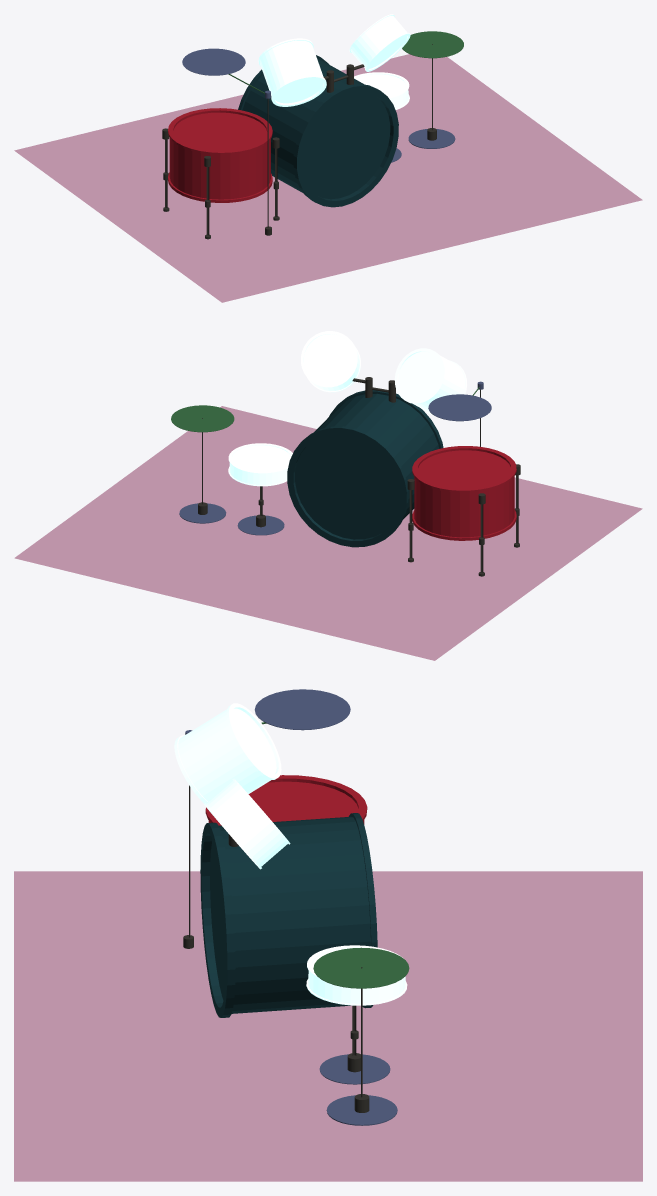
The model's file is drums.fbx.
3 renders of one model, top to bottom at view 1: azimuth 30°, elevation 25°; view 2: azimuth 150°, elevation 25°; view 3: azimuth 270°, elevation 25°, orthographic. The views are drawn at different scales.
Visible parts, largest first — view 1: Grid, Cylinder, Cylinder.002, Cylinder.010, Cylinder.011, Cylinder.023, Cylinder.020, Cylinder.001, Cylinder.018; view 2: Grid, Cylinder, Cylinder.002, Cylinder.010, Cylinder.011, Cylinder.001, Cylinder.023, Cylinder.020, Cylinder.018, Cylinder.015; view 3: Grid, Cylinder, Cylinder.010, Cylinder.002, Cylinder.011, Cylinder.023, Cylinder.020, Cylinder.001, Cylinder.018, Cylinder.015.
Boxes of the visible parts, <box> form: Grid: <box>14,54,642,302</box>; Cylinder: <box>238,55,398,207</box>; Cylinder.002: <box>168,108,272,202</box>; Cylinder.010: <box>258,38,326,106</box>; Cylinder.011: <box>349,14,410,71</box>; Cylinder.023: <box>182,48,270,98</box>; Cylinder.020: <box>402,31,463,58</box>; Cylinder.001: <box>354,72,409,109</box>; Cylinder.018: <box>408,129,455,148</box>; Grid: <box>14,406,642,660</box>; Cylinder: <box>287,390,443,547</box>; Cylinder.002: <box>412,446,516,540</box>; Cylinder.010: <box>394,348,466,415</box>; Cylinder.011: <box>301,331,360,392</box>; Cylinder.001: <box>228,443,292,486</box>; Cylinder.023: <box>428,381,491,421</box>; Cylinder.020: <box>171,405,234,432</box>; Cylinder.018: <box>179,503,226,523</box>; Cylinder.015: <box>237,515,284,535</box>; Grid: <box>14,871,642,1181</box>; Cylinder: <box>200,813,377,1017</box>; Cylinder.010: <box>174,703,281,803</box>; Cylinder.002: <box>205,775,367,825</box>; Cylinder.011: <box>204,778,290,869</box>; Cylinder.023: <box>185,689,350,734</box>; Cylinder.020: <box>313,947,409,988</box>; Cylinder.001: <box>306,945,407,1005</box>; Cylinder.018: <box>326,1095,397,1125</box>; Cylinder.015: <box>319,1054,390,1084</box>.
Size of the model in its own units: 1888 by 763 by 1617.
